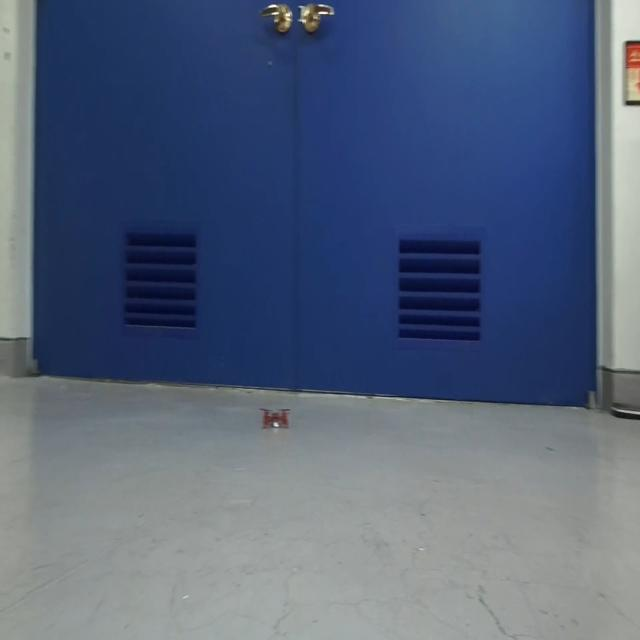crazyflie: (256, 401, 295, 436)
